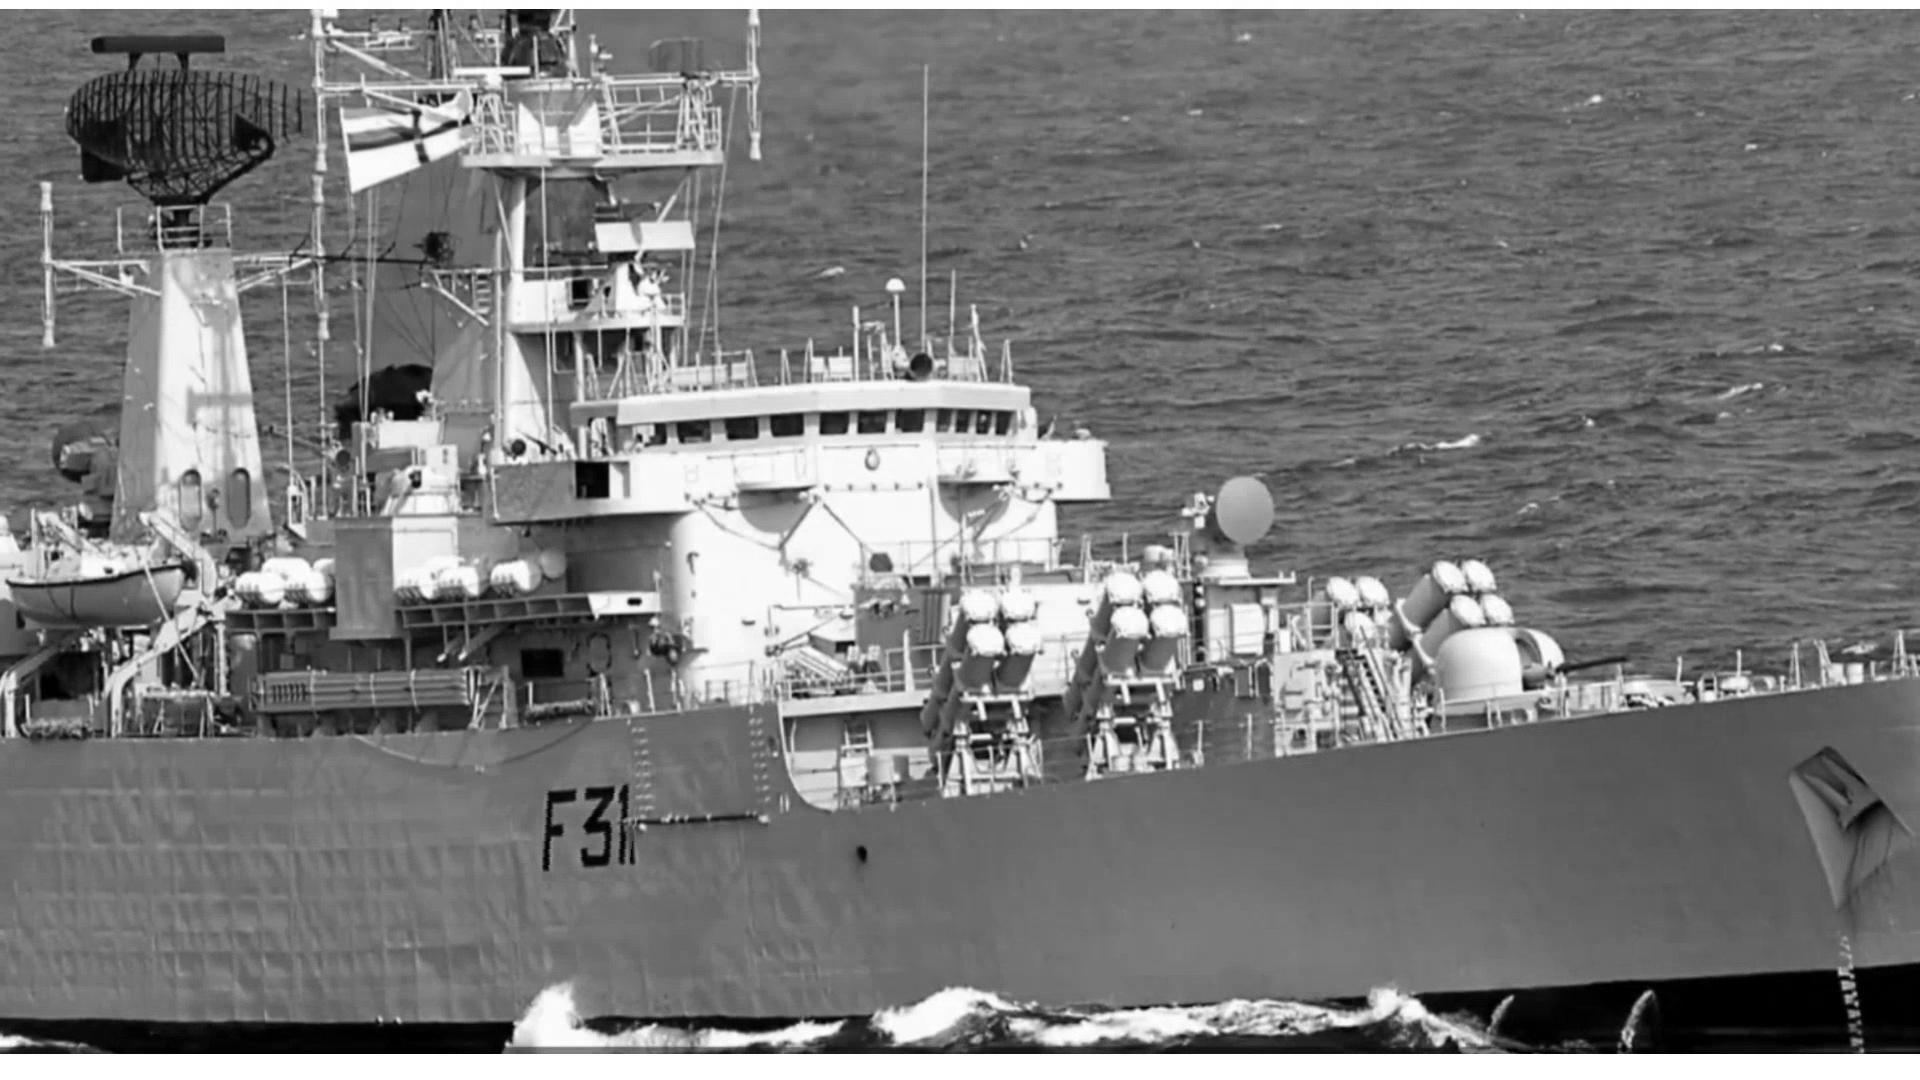OCR: (542, 781, 640, 881)
